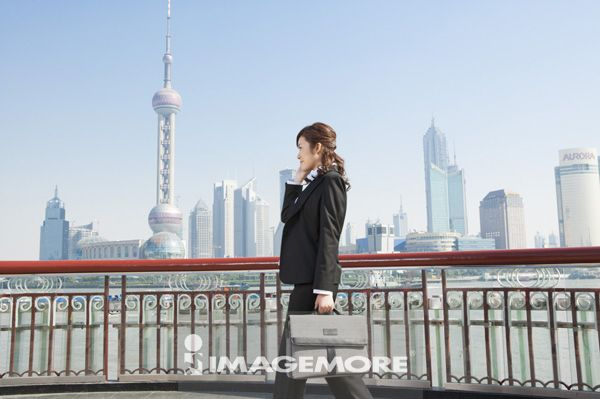talk: (292, 139, 313, 182)
